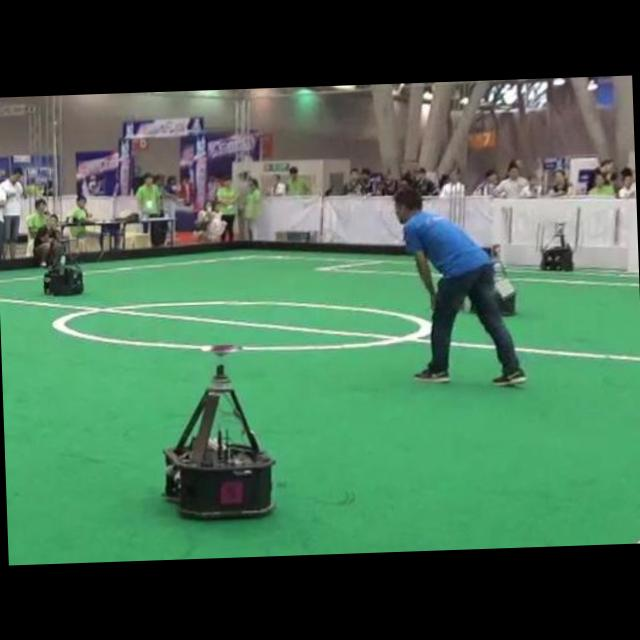goal: (626, 199, 637, 270)
robot: (164, 364, 273, 517), (483, 245, 515, 316), (43, 239, 84, 294), (540, 223, 571, 270)
